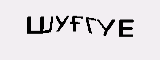Г: (84, 17, 97, 37)
Е: (118, 17, 136, 38)
У: (95, 16, 115, 38), (54, 14, 69, 34)
Ш: (26, 16, 54, 35)
Ғ: (68, 15, 83, 34)
